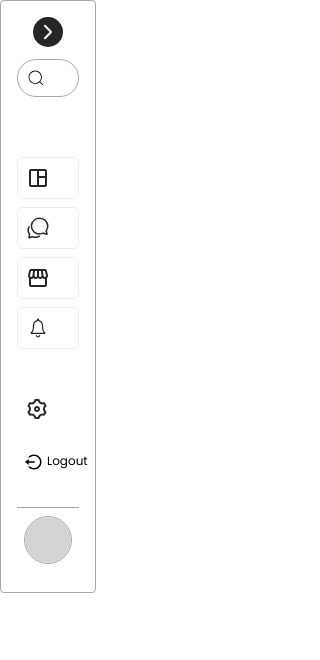
Test: DashBoardSideBar › menu visibility when toggle button is clicked
This screenshot has width=320, height=660.
Click the icon with test id "menu-toggle-button2". click: (48, 32)
box: [33,17,63,47]
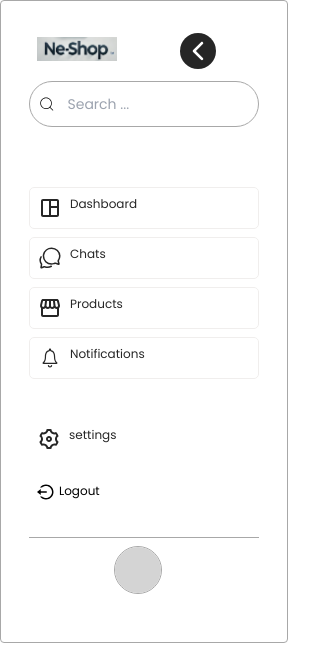
Result: the icon with test id "menu-toggle-button" is shown
Click the icon with test id "menu-toggle-button". click: (198, 51)
box: [180,33,216,69]
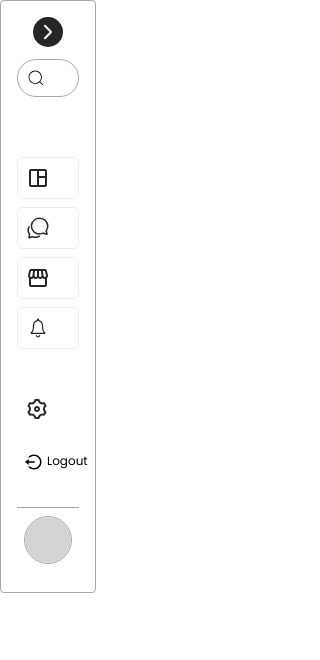
Result: the icon with test id "menu-toggle-button2" is shown at [33,17,63,47]
